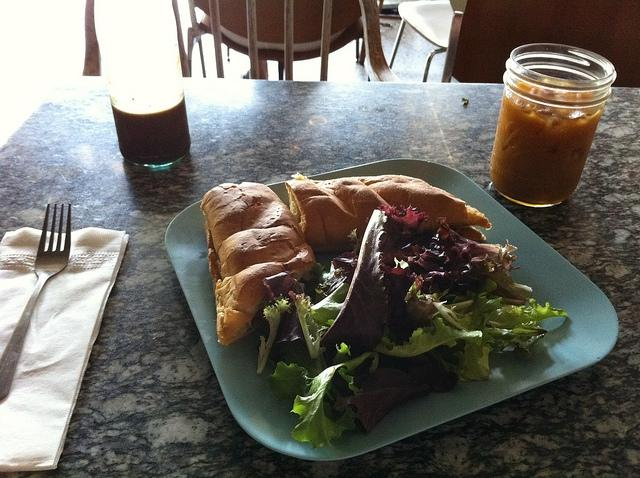lettuce: (378, 217, 521, 295), (267, 351, 379, 450), (334, 354, 458, 434), (320, 208, 389, 350), (372, 317, 482, 357), (382, 273, 432, 342), (288, 290, 329, 360), (256, 296, 290, 376), (486, 298, 567, 330), (433, 294, 502, 331), (428, 344, 493, 382), (311, 282, 350, 334), (316, 251, 358, 298), (489, 268, 533, 306)
